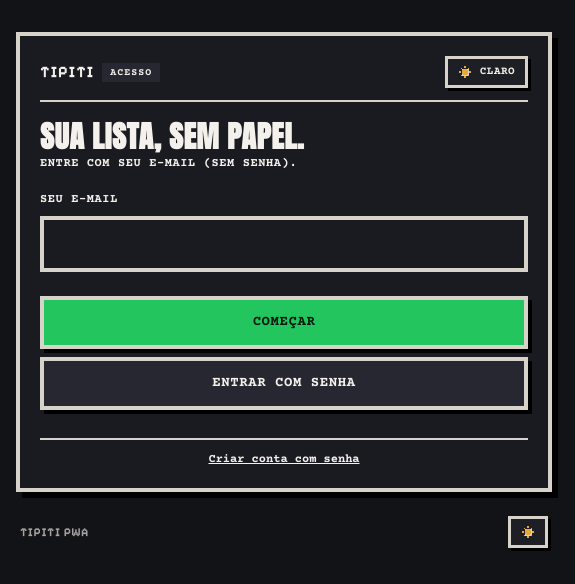
Test: LoginPage › does not expose generic Supabase errors
The image size is (575, 584).
Type "ana@example.com" into the field labelled "Seu e-mail" at (284, 244), box [40,216,528,272]
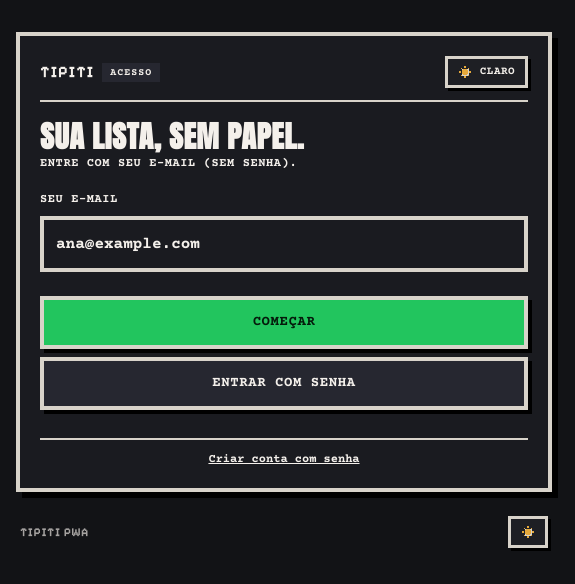
Click the button "Começar" at (284, 322), box [40,296,528,349]
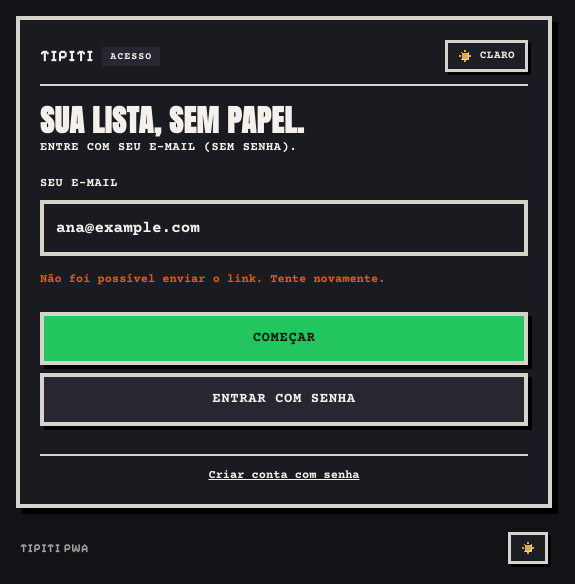
Now the message reads "Não foi possível enviar o link. Tente novamente.", box [40,273,385,286]
